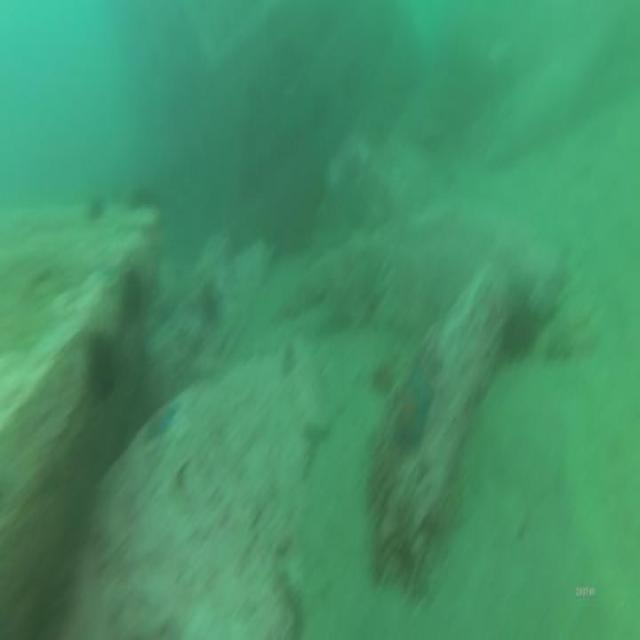echinus: (84, 322, 118, 402), (499, 297, 538, 365), (121, 264, 147, 327)
starfish: (396, 365, 434, 457), (138, 400, 181, 447)
